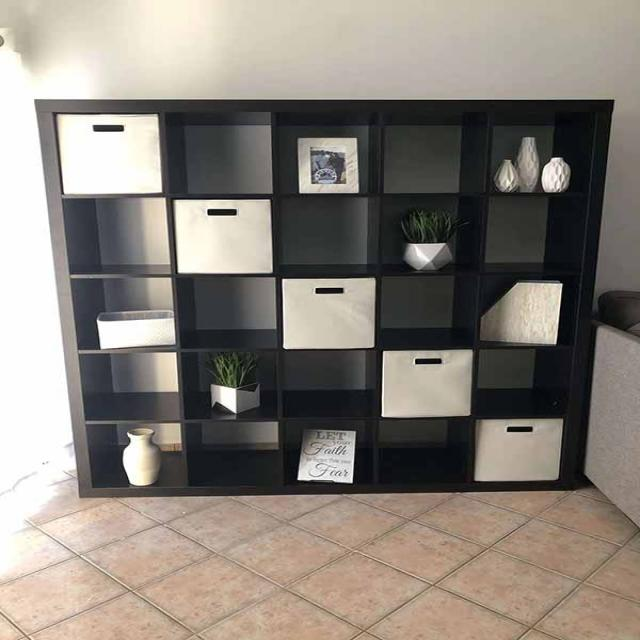Shelf: (28, 91, 619, 500)
